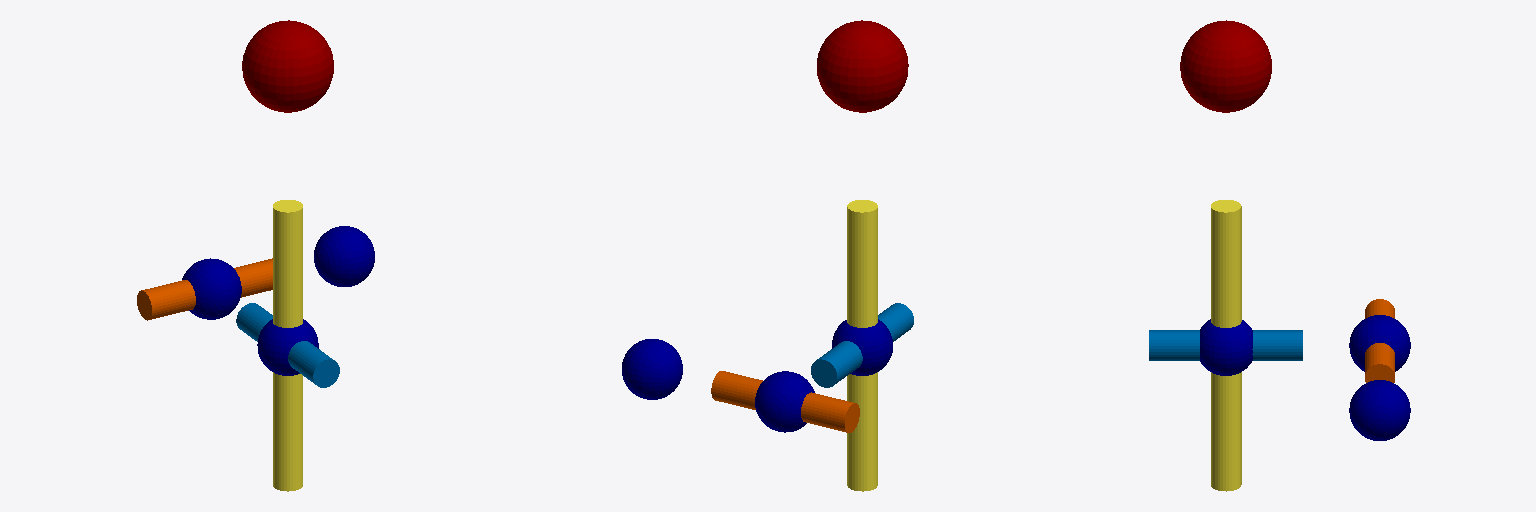
URDF robot description (RRRBot_description):
<?xml version="1.0" ?>
<!--simple pbot-->

<robot name="RRRBot_description">
    <link name="base_link">
        <inertial>
            <origin xyz="0.0 0.0 0.0" rpy="0 0 0" />
            <mass value="0.1" />
            <inertia ixx="0.1" iyy="0.1" izz="0.1" ixy="0" ixz="0" iyz="0" />
        </inertial>
        <visual>
            <origin xyz="0.0 0.0 0.0" rpy="0 0 0" />
            <geometry>
                <sphere radius="0.15" />
            </geometry>
            <material name="material_red">
                <color rgba="0.6 0.0 0.0 1.0" />
            </material>
        </visual>
    </link>
    <link name="link0">
        <inertial>
            <origin xyz="0.0 0.0 0.0" rpy="0 0 0" />
            <mass value="0.1" />
            <inertia ixx="0.1" iyy="0.1" izz="0.1" ixy="0" ixz="0" iyz="0" />
        </inertial>
    </link>
    <link name="link1">
        <inertial>
            <origin xyz="0.0 0.0 0.0" rpy="0 0 0" />
            <mass value="0.1" />
            <inertia ixx="0.1" iyy="0.1" izz="0.1" ixy="0" ixz="0" iyz="0" />
        </inertial>
    </link>
    <link name="link2">
        <inertial>
            <origin xyz="0.0 0.0 -1.0" rpy="0 0 0" />
            <mass value="1.0" />
            <inertia ixx="0.1" iyy="0.1" izz="0.1" ixy="0" ixz="0" iyz="0" />
        </inertial>
        <visual>
            <origin xyz="0.0 0.0 -1.0" rpy="0 0 0" />
            <geometry>
                <sphere radius="0.1" />
            </geometry>
            <material name="material_blue">
                <color rgba="0.0 0.0 0.6 1.0" />
            </material>
        </visual>
        <visual>
            <origin xyz="0.0 0.0 -1.0" rpy="0 0 0" />
            <geometry>
                <cylinder radius="0.05" length="1.0"/>
            </geometry>
        </visual>
    </link>
    <link name="link3">
        <inertial>
            <origin xyz="0.0 0.0 0.5" rpy="0 0 0" />
            <mass value="1.0" />
            <inertia ixx="0.1" iyy="0.1" izz="0.1" ixy="0" ixz="0" iyz="0" />
        </inertial>
        <visual>
            <origin xyz="0.0 0.0 0.5" rpy="0 0 0" />
            <geometry>
                <sphere radius="0.1" />
            </geometry>
            <material name="material_blue">
                <color rgba="0.0 0.0 0.6 1.0" />
            </material>
        </visual>
        <visual>
            <origin xyz="0.0 0.0 0.0" rpy="0 0 0" />
            <geometry>
                <cylinder radius="0.05" length="0.5"/>
            </geometry>
        </visual>
    </link>
    <link name="link4">
        <inertial>
            <origin xyz="0.0 0.0 0.5" rpy="0 0 0" />
            <mass value="1.0" />
            <inertia ixx="0.1" iyy="0.1" izz="0.1" ixy="0" ixz="0" iyz="0" />
        </inertial>
        <visual>
            <origin xyz="0.0 0.0 0.5" rpy="0 0 0" />
            <geometry>
                <sphere radius="0.1" />
            </geometry>
            <material name="material_blue">
                <color rgba="0.0 0.0 0.6 1.0" />
            </material>
        </visual>
        <visual>
            <origin xyz="0.0 0.0 0.0" rpy="0 0 0" />
            <geometry>
                <cylinder radius="0.05" length="0.5"/>
            </geometry>
        </visual>
    </link>

    <joint name="j0" type="revolute">
        <parent link="base_link" />
        <child link="link0" />
        <origin xyz="0.000000 0.000000 0.000000" rpy="-0.000000 0.000000 -0.000000" />
        <axis xyz="1 0 0" />
        <limit lower="-2.967" upper="2.967" effort="176" velocity="1.7104" />
    </joint>
    <joint name="j1" type="revolute">
        <parent link="link0" />
        <child link="link1" />
        <origin xyz="0.000000 0.000000 0.000000" rpy="-0.000000 0.000000 -0.000000" />
        <axis xyz="0 1 0" />
        <limit lower="-2.967" upper="2.967" effort="176" velocity="1.7104" />
    </joint>
    <joint name="j2" type="revolute">
        <parent link="link1" />
        <child link="link2" />
        <origin xyz="0.000000 0.000000 0.000000" rpy="-0.000000 0.000000 -0.000000" />
        <axis xyz="0 0 1" />
        <limit lower="-2.967" upper="2.967" effort="176" velocity="1.7104" />
    </joint>
    <joint name="j3" type="fixed">
        <parent link="link2" />
        <child link="link3" />
        <origin xyz="0.000000 0.000000 -1.000000" rpy="-1.570796 0.000000 -0.000000" />
    </joint>
    <joint name="j4" type="fixed">
        <parent link="link3" />
        <child link="link4" />
        <origin xyz="0.000000 0.000000 0.500000" rpy="0.000000 1.570796 -0.000000" />
    </joint>
</robot>

--- Render facts (derived) ---
3 views of the same robot in one strip: view 1: azimuth 30°, elevation 25°; view 2: azimuth 150°, elevation 25°; view 3: azimuth 270°, elevation 25° (orthographic).
Model RRRBot_description with 6 links and 5 joints (3 revolute, 2 fixed), rooted at base_link, posed every joint at zero.
Visible links, largest first — view 1: link2, base_link, link4, link3; view 2: link2, base_link, link4, link3; view 3: link2, base_link, link3, link4.
Link boxes in pixels (x1=…): link2: x1=257, y1=200, x2=318, y2=491; base_link: x1=242, y1=20, x2=333, y2=112; link4: x1=137, y1=226, x2=374, y2=320; link3: x1=182, y1=258, x2=339, y2=387; link2: x1=832, y1=200, x2=892, y2=491; base_link: x1=817, y1=20, x2=908, y2=112; link4: x1=622, y1=339, x2=859, y2=432; link3: x1=755, y1=303, x2=913, y2=432; link2: x1=1200, y1=200, x2=1252, y2=491; base_link: x1=1180, y1=20, x2=1271, y2=112; link3: x1=1149, y1=315, x2=1410, y2=371; link4: x1=1349, y1=299, x2=1410, y2=440.
Bounding box of the posed robot: 0.85 × 0.85 × 1.65 m (x, y, z).
Geometry: primitives only (box / cylinder / sphere), no mesh files.